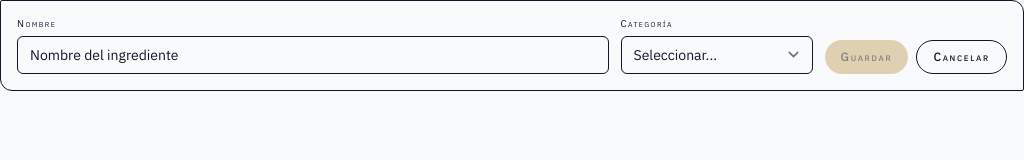
Test: IngredientForm › Guardar is enabled when name >= 2 chars and category selected
Type "Ron añejo" into the field with placeholder "Nombre del ingrediente" at (313, 55), box 17,36 -> 608,74
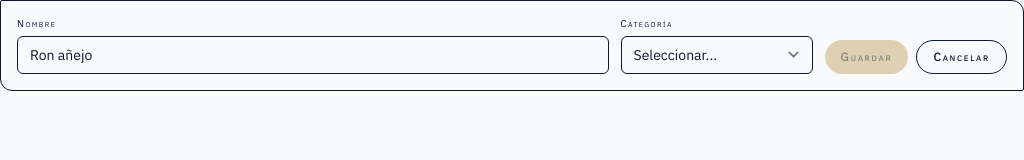
Select "Bases alcohólicas" in the dropdown at (716, 55), box 620,36 -> 812,74
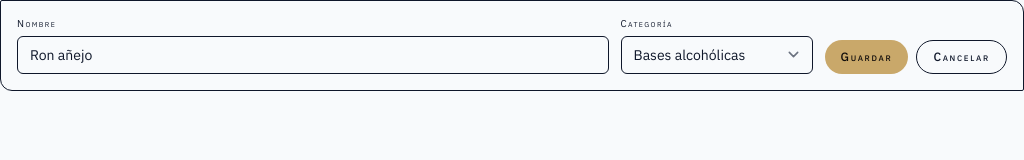
Expected: the submit button is enabled, 824,40 -> 908,74
